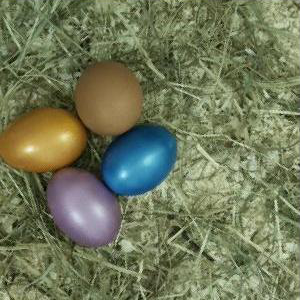egg: (45, 166, 123, 248), (1, 107, 90, 173), (99, 124, 178, 196), (75, 60, 145, 137)
